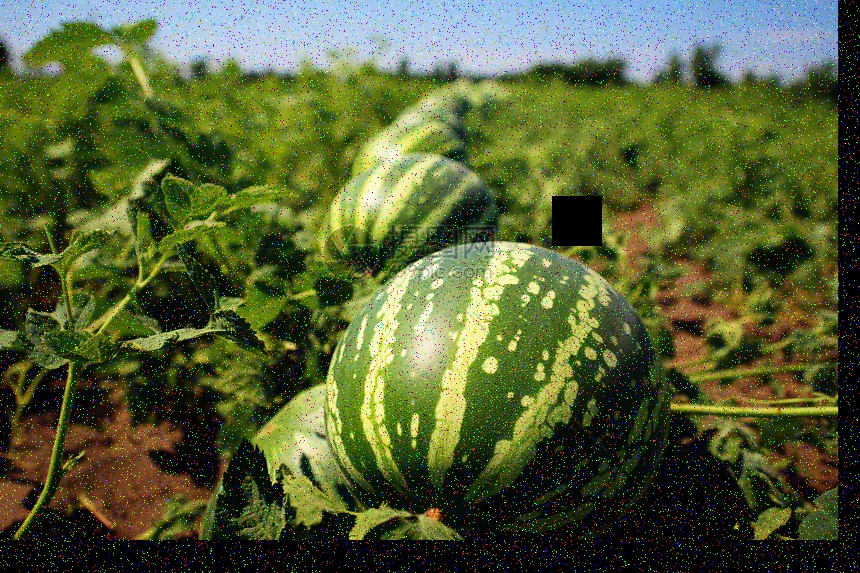watermelon: (321, 239, 662, 532), (323, 151, 495, 283)
